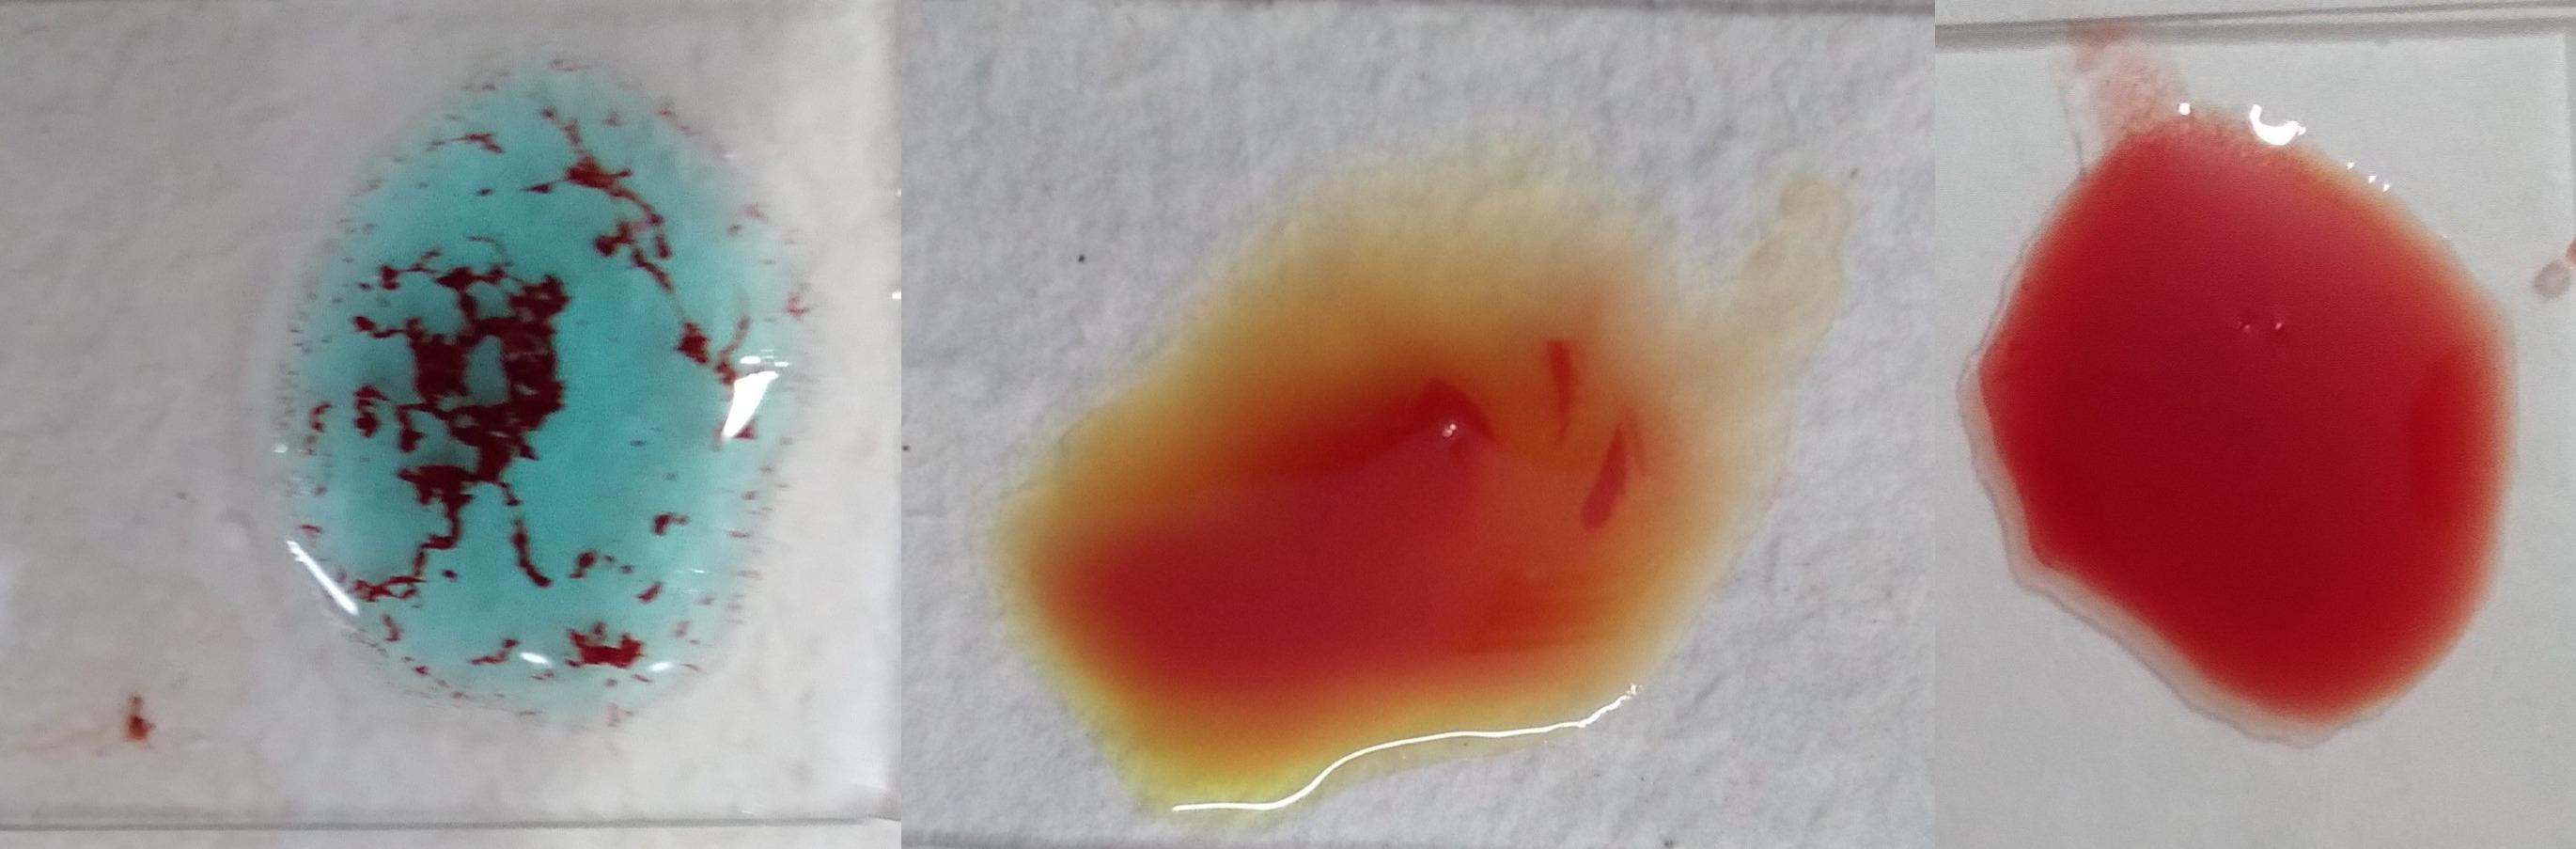A: (283, 44, 789, 729)
